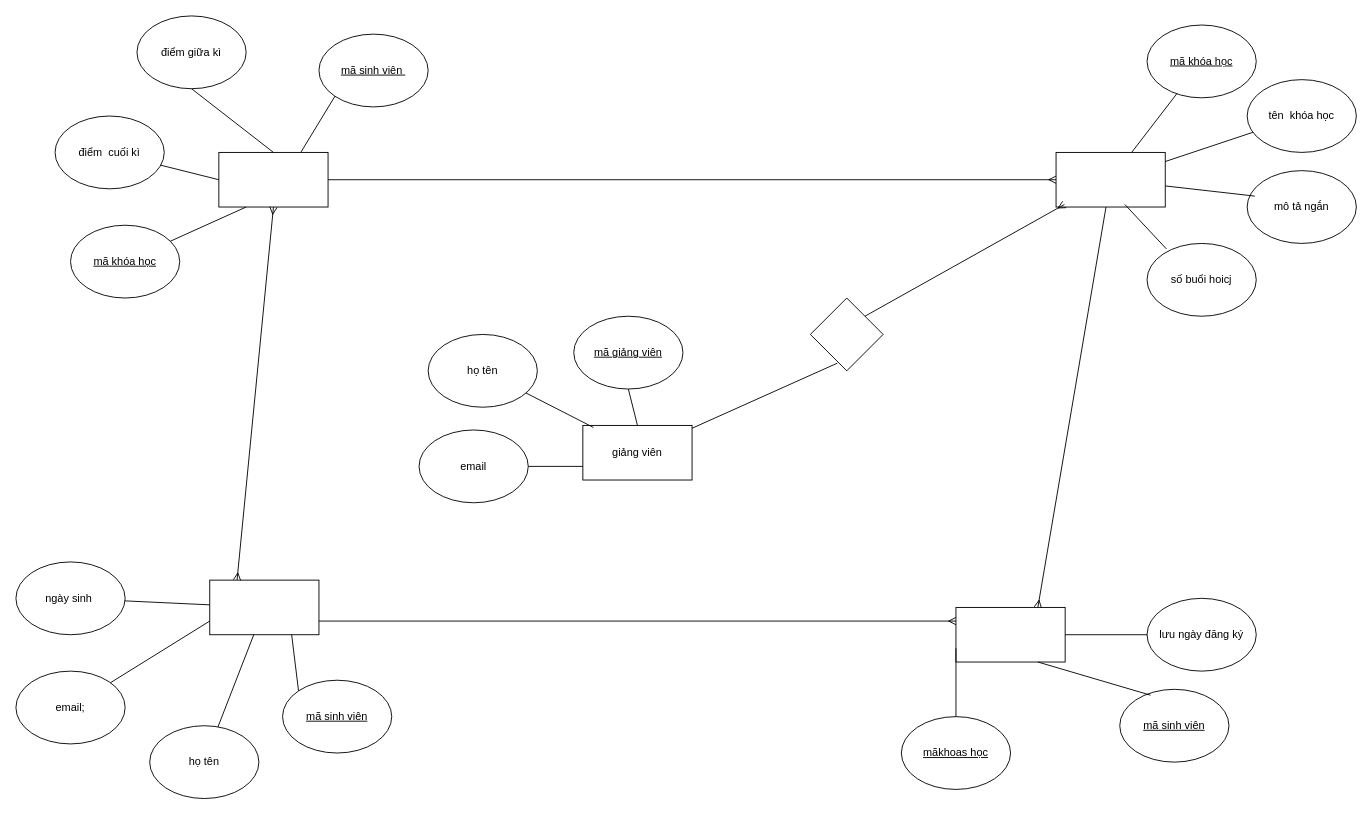
This 1372x814 diagram has some shape labels left out. The shapes that lost their labels are listed below. From the top down, each one's centre as x and y in pixels, then its label:
[273,179]: kết quả
[1110,179]: khóa học
[846,334]: có thể dạy được
[264,607]: sinh vien
[1010,634]: đăng ký học
